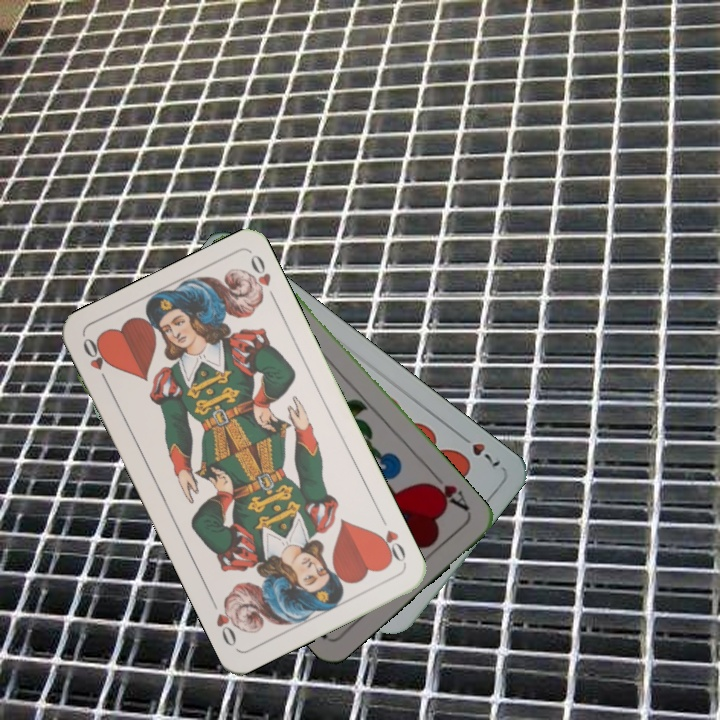H7: (454, 429, 504, 472)
HA: (421, 468, 472, 514)
HO: (372, 512, 409, 567), (78, 333, 113, 389)
